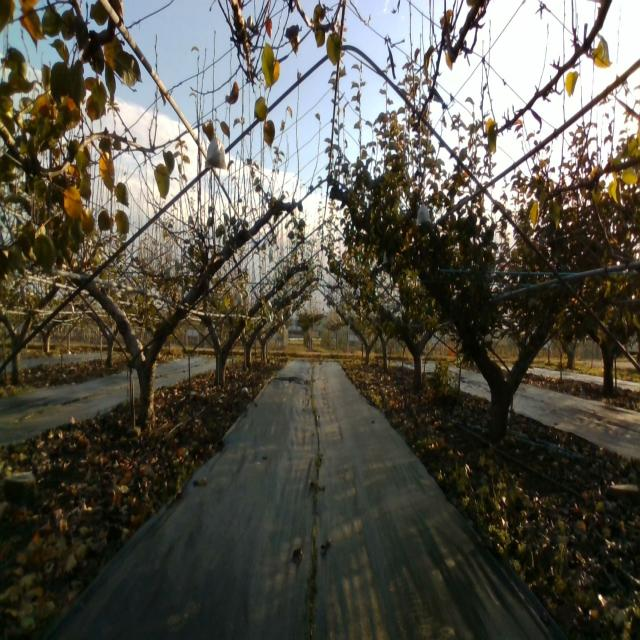pearbags: (205, 131, 228, 170), (416, 198, 431, 224)
